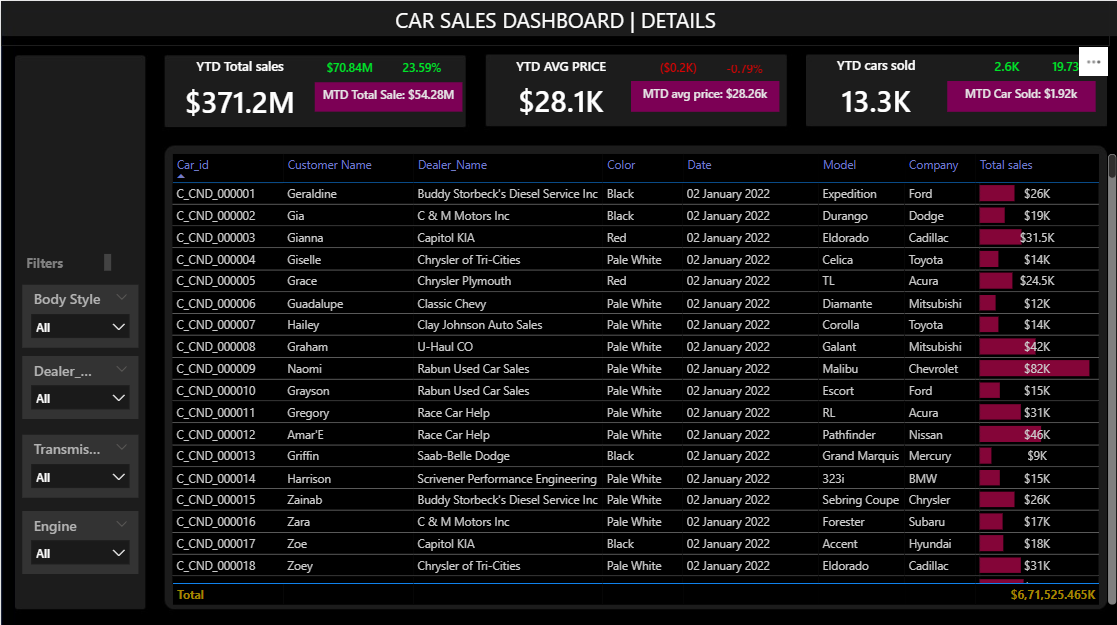

Layout of this report page (visuals, bound fields, positions):
{"tool":"powerbi","page":{"name":"Duplicate of Page details","canvas":[1280,720],"ordinal":1},"visuals":[{"type":"card","title":"YTD Total sales","fields":{"Values":["car_data.YTD TOTAL SALES"]},"box":[192.3,63.8,160.8,81.5],"z":0},{"type":"card","title":"Total sales","fields":{"Values":["car_data.sales difference"]},"box":[352.5,63.8,91.2,28.8],"z":1000},{"type":"card","title":"Total sales","fields":{"Values":["car_data.yoy sales growth"]},"box":[436.4,63.6,90.9,29.1],"z":2000},{"type":"card","fields":{"Values":["car_data.MTD kpi"]},"box":[358.8,92.5,168.8,33.8],"z":3000},{"type":"card","title":"YTD AVG PRICE","fields":{"Values":["car_data.AVG Price"]},"box":[560,63.8,160,81.2],"z":4000},{"type":"card","title":"Total sales","fields":{"Values":["car_data.YOY AVG PRICE GROWTH"]},"box":[803.8,63.8,91.2,23.8],"z":5000},{"type":"card","title":"Total sales","fields":{"Values":["car_data.Avg price diff"]},"box":[728.8,63.8,91.2,28.8],"z":6000},{"type":"card","fields":{"Values":["car_data.MTD  Avg Price KPI"]},"box":[720.4,92.1,169.2,34.8],"z":7000},{"type":"card","title":"YTD cars sold","fields":{"Values":["car_data.YTD cars sold"]},"box":[920.7,63.5,160.5,82.1],"z":8000},{"type":"card","title":"Total sales","fields":{"Values":["car_data.yoy car sold growth"]},"box":[1177,62.2,90.8,29.9],"z":9000},{"type":"card","title":"Total sales","fields":{"Values":["car_data.car sold diff"]},"box":[1104.8,63.5,90.8,28.6],"z":10000},{"type":"card","fields":{"Values":["car_data.MTD Car Sold KPI"]},"box":[1081.2,92.1,169.2,34.8],"z":11000},{"type":"textbox","box":[0,0,1267.5,51.5],"z":17000},{"type":"slicer","fields":{"Values":["car_data.Body Style"]},"box":[24.5,323.9,132.5,72.4],"z":18000},{"type":"slicer","fields":{"Values":["car_data.Dealer_Name"]},"box":[24.5,406.1,132.5,72.4],"z":19000},{"type":"slicer","fields":{"Values":["car_data.Transmission"]},"box":[24.5,495.7,132.5,72.4],"z":20000},{"type":"slicer","fields":{"Values":["car_data.Engine"]},"box":[24.5,582.8,132.5,72.4],"z":21000},{"type":"textbox","box":[24.5,284.7,106.7,29.4],"z":22000},{"type":"tableEx","fields":{"Values":["car_data.Car_id","car_data.Customer Name","car_data.Dealer_Name","car_data.Color","car_data.Date","car_data.Model","car_data.Company","Sum(car_data.Price ($))"]},"box":[190.2,169.3,1089.6,525.2],"z":22001}]}

Visuals, with their boxes in screenshot pixels (x1, y1, x2, y2), scaled from the page's 1280x720 canvas onto the 1117x625 screenshot:
"YTD Total sales" card: bbox=[168, 55, 308, 126]
"Total sales" card: bbox=[308, 55, 387, 80]
"Total sales" card: bbox=[381, 55, 460, 80]
card - car_data.MTD kpi: bbox=[313, 80, 460, 110]
"YTD AVG PRICE" card: bbox=[489, 55, 628, 126]
"Total sales" card: bbox=[701, 55, 781, 76]
"Total sales" card: bbox=[636, 55, 716, 80]
card - car_data.MTD  Avg Price KPI: bbox=[629, 80, 776, 110]
"YTD cars sold" card: bbox=[803, 55, 944, 126]
"Total sales" card: bbox=[1027, 54, 1106, 80]
"Total sales" card: bbox=[964, 55, 1043, 80]
card - car_data.MTD Car Sold KPI: bbox=[944, 80, 1091, 110]
textbox: bbox=[0, 0, 1106, 45]
slicer - car_data.Body Style: bbox=[21, 281, 137, 344]
slicer - car_data.Dealer_Name: bbox=[21, 353, 137, 415]
slicer - car_data.Transmission: bbox=[21, 430, 137, 493]
slicer - car_data.Engine: bbox=[21, 506, 137, 569]
textbox: bbox=[21, 247, 114, 273]
tableEx - car_data.Car_id x car_data.Customer Name: bbox=[166, 147, 1116, 603]
